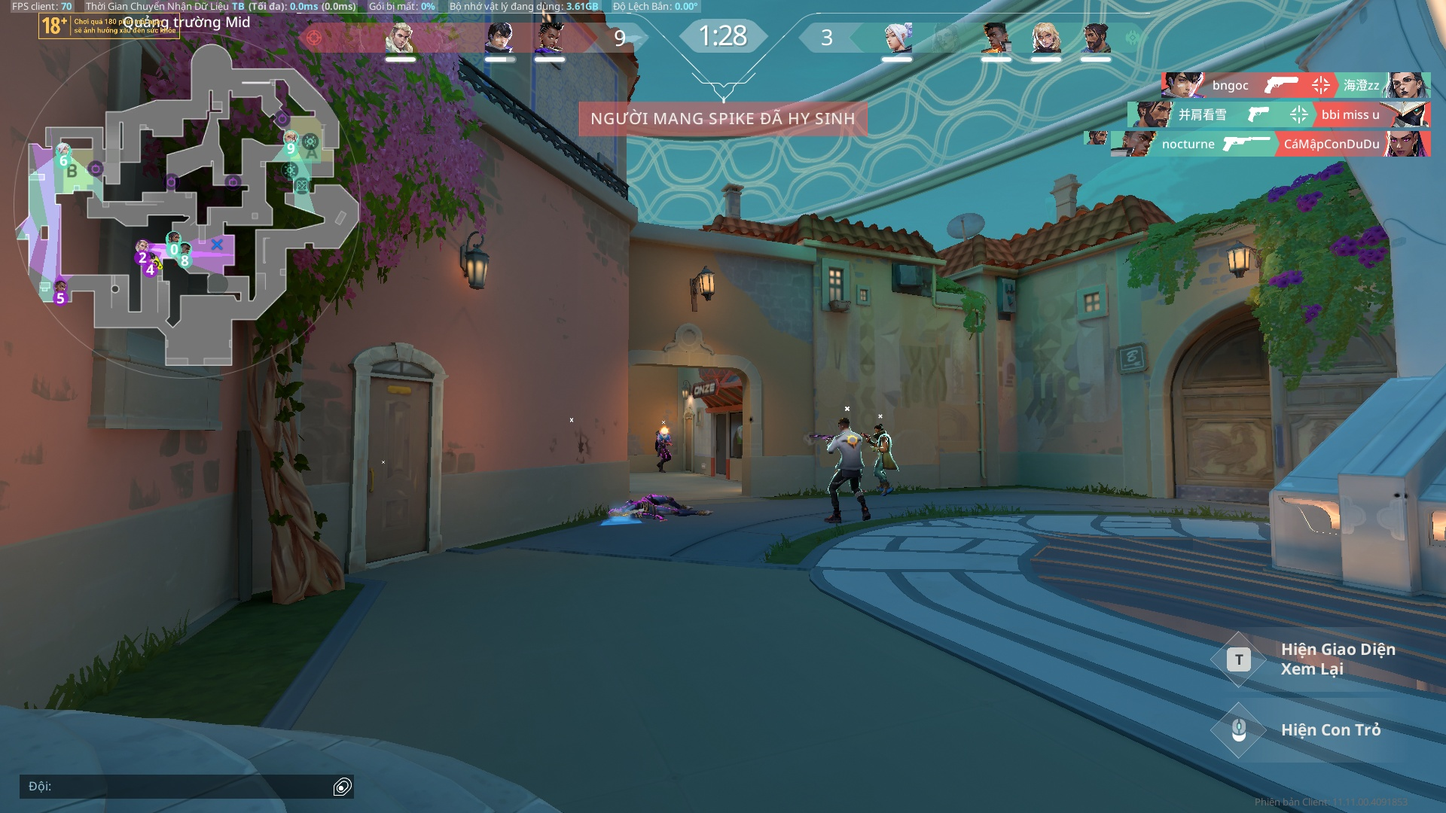body: (657, 433, 672, 446)
head: (660, 427, 669, 434)
